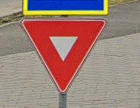cedeaza: (22, 17, 108, 94)
